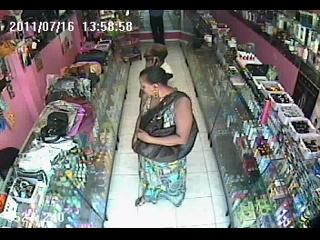Normal: (132, 66, 198, 207), (142, 43, 172, 85), (76, 50, 109, 66)
